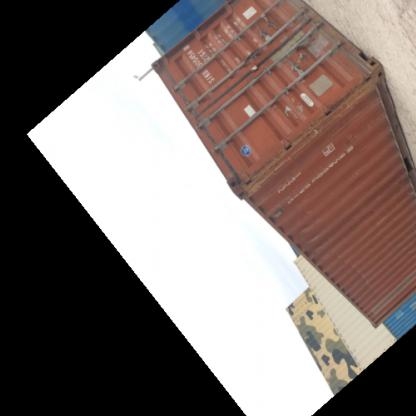Damage: (242, 152, 288, 192), (269, 34, 324, 61), (294, 218, 330, 258), (326, 81, 368, 111), (340, 263, 370, 300), (274, 96, 306, 126)
